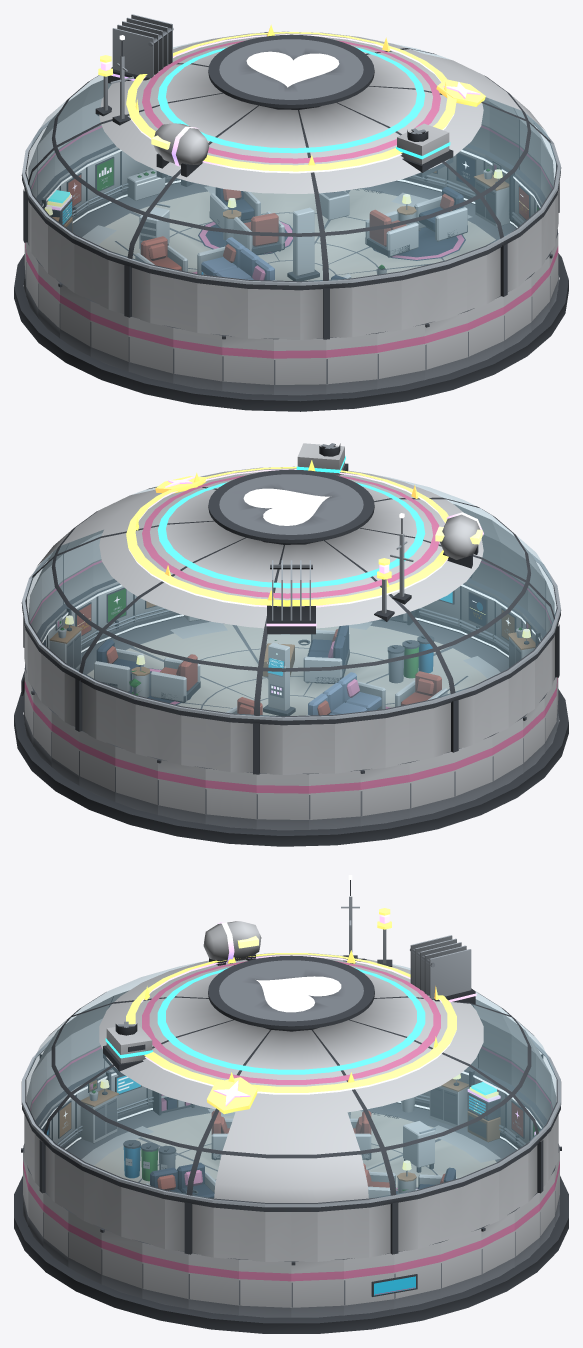
The model's file is lounge_s.glb.
3 views of the same model, one above another, from view 1: azimuth 30°, elevation 25°; view 2: azimuth 150°, elevation 25°; view 3: azimuth 270°, elevation 25° (orthographic).
Visible parts, largest first — view 1: Roof, Base, Interior, L4, L5, L3, Tall_01, Wall_21, Wall_20, Wall_22, Upper_21, Upper_20 (+41 smaller); view 2: Roof, Base, Interior, L5, L4, L3, Wall_10, Wall_11, Wall_09, Upper_10, Upper_11, Wall_12 (+41 smaller); view 3: Roof, Base, L4, L5, L3, Wall_00, Wall_31, Interior, Upper_00, Upper_31, Upper_01, Upper_30 (+40 smaller).
Boxes of the visible parts, x1,y1,x2,y2 form: Roof: (25,31,557,282); Base: (14,181,568,411); Interior: (82,186,471,281); L4: (108,14,454,186); L5: (95,24,485,171); L3: (157,47,453,177); Tall_01: (198,187,292,255); Wall_21: (274,338,326,395); Wall_20: (222,335,273,394); Wall_22: (326,333,377,394); Upper_21: (274,284,326,339); Upper_20: (222,281,273,338); Roof: (25,466,557,717); Base: (14,617,568,846); Interior: (94,622,500,716); L5: (126,460,448,621); L4: (128,469,483,634); L3: (157,443,425,588); Wall_10: (256,773,308,830); Wall_11: (309,770,360,829); Wall_09: (205,768,256,829); Upper_10: (256,719,308,774); Upper_11: (309,716,360,773); Wall_12: (360,762,409,826); Roof: (25,953,557,1203); Base: (14,1103,568,1333); L4: (141,921,476,1094); L5: (126,908,456,1114); L3: (103,968,425,1076); Wall_00: (291,1259,343,1317); Wall_31: (239,1259,291,1317); Interior: (81,1108,500,1190); Upper_00: (291,1205,343,1261); Upper_31: (239,1205,291,1261); Upper_01: (343,1199,395,1258); Upper_30: (187,1199,239,1258).
Size of the model in its own units: 11.74 by 6.36 by 11.74.
